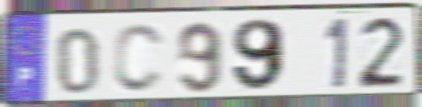0: (53, 25, 103, 96)
1: (321, 15, 349, 92)
2: (356, 14, 408, 92)
9: (231, 16, 291, 95), (176, 19, 225, 95)
C: (111, 21, 168, 96)
